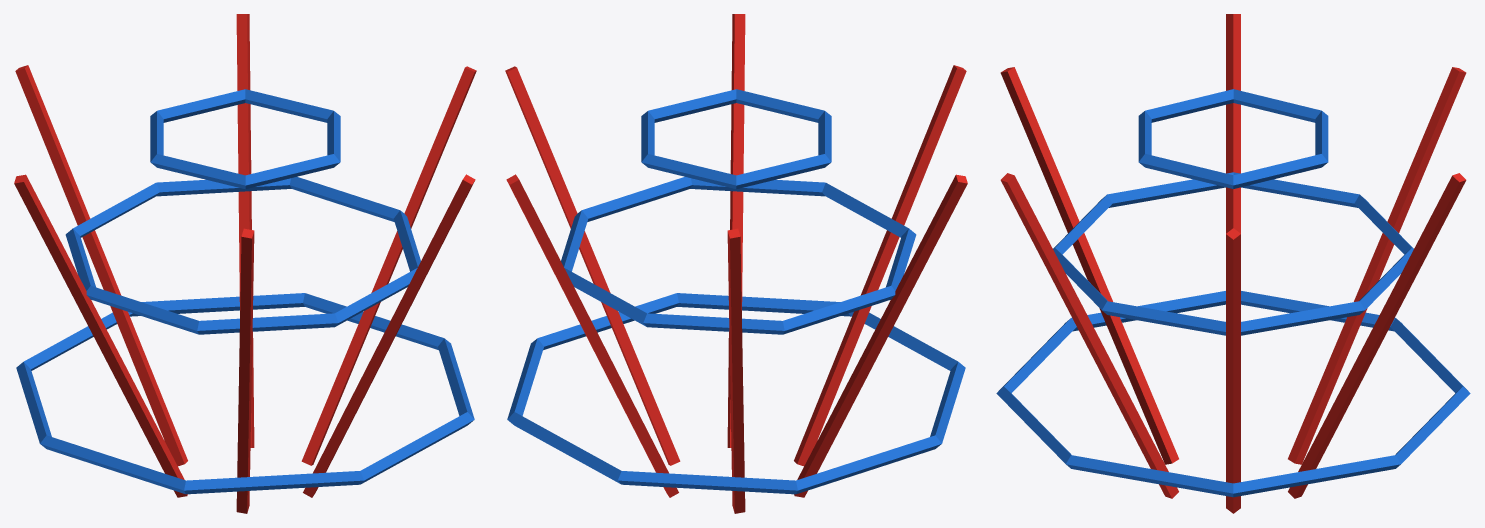
File: jungle_dome.glb
The picture shows the model from 3 angles, left to right: view 1: azimuth 30°, elevation 25°; view 2: azimuth 150°, elevation 25°; view 3: azimuth 270°, elevation 25°; orthographic projection.
Parts seen in each view (by area): view 1: jungle_dome; view 2: jungle_dome; view 3: jungle_dome.
Part boxes in pixels (bbox=[...]): jungle_dome: bbox=[14, 14, 476, 513]; jungle_dome: bbox=[505, 14, 967, 513]; jungle_dome: bbox=[996, 14, 1470, 513].
Size of the model in its own units: 2.09 by 1.56 by 1.86.
